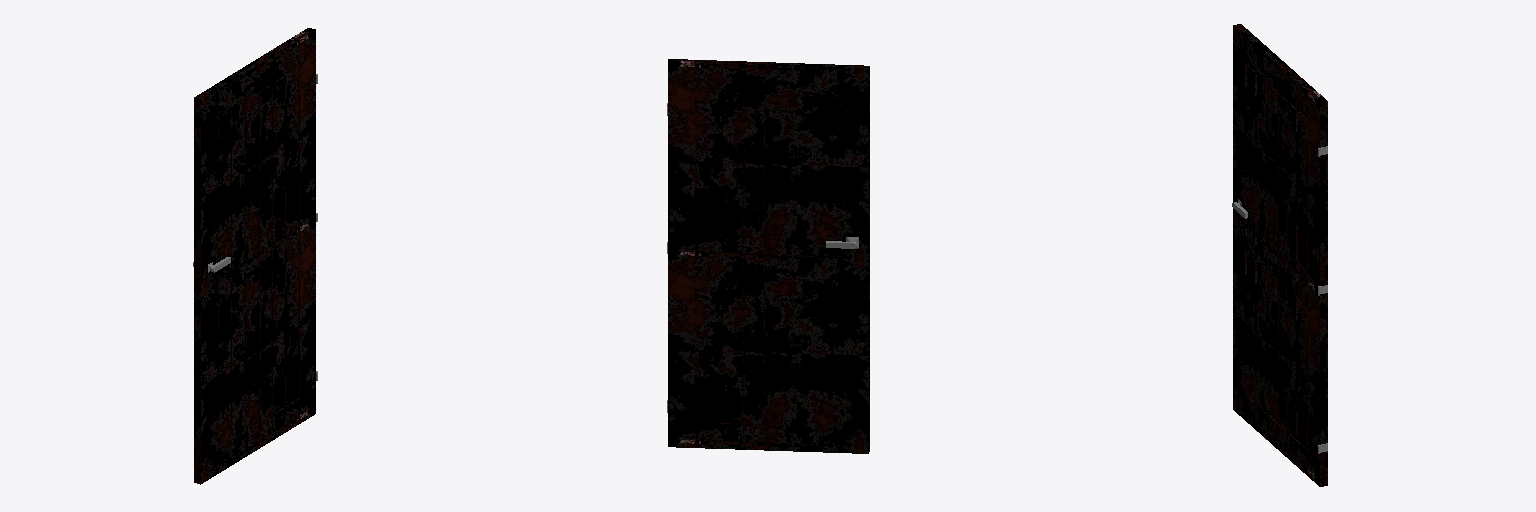
3 renders of one model, left to right at view 1: azimuth 30°, elevation 25°; view 2: azimuth 150°, elevation 25°; view 3: azimuth 270°, elevation 25°, orthographic.
Parts seen in each view (by area): view 1: Cube.011_Cube.003; view 2: Cube.011_Cube.003; view 3: Cube.011_Cube.003.
Part boxes in pixels (bbox=[...]): Cube.011_Cube.003: bbox=[194, 28, 315, 484]; Cube.011_Cube.003: bbox=[668, 59, 869, 453]; Cube.011_Cube.003: bbox=[1233, 24, 1327, 486].
Size of the model in its own units: 0.9089 by 2.04 by 0.4618.
Materials: 2 (1 with a texture image).